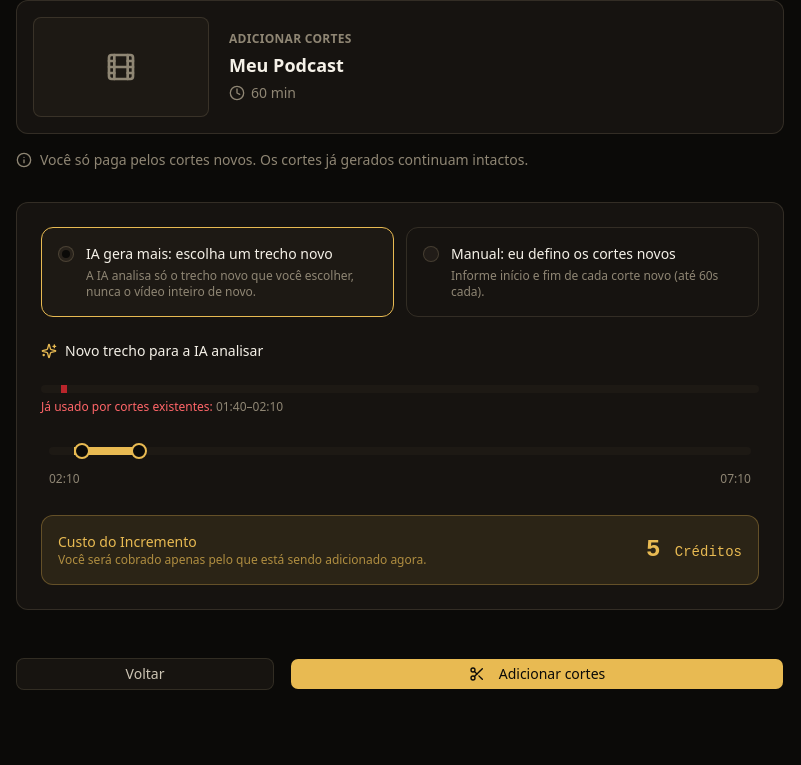
Test: AddClipsToProjectClient - Accessibility (WCAG 2.1 AA) › o bloqueio de sobreposição com clipe existente é um role=alert ligado ao campo (WCAG 4.1.3 / 3.3.1)
Click the radio button named "Manual: eu defino" next to "Manual: eu defino os cortes novos": (431, 254) [423, 246, 439, 262]
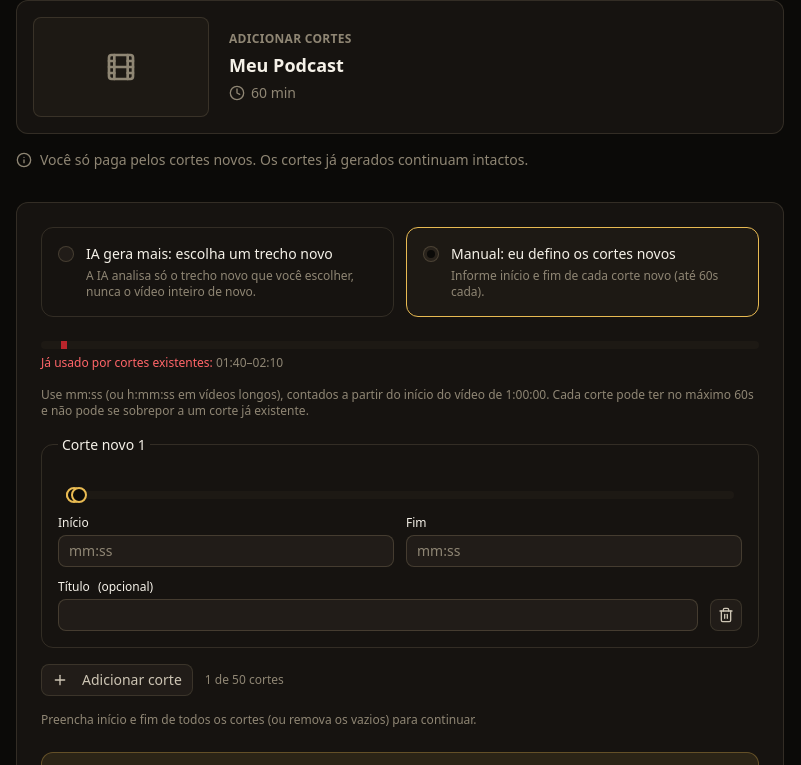
In the field named "Início do corte novo 1": (226, 551) [58, 535, 394, 567], type "01:50"
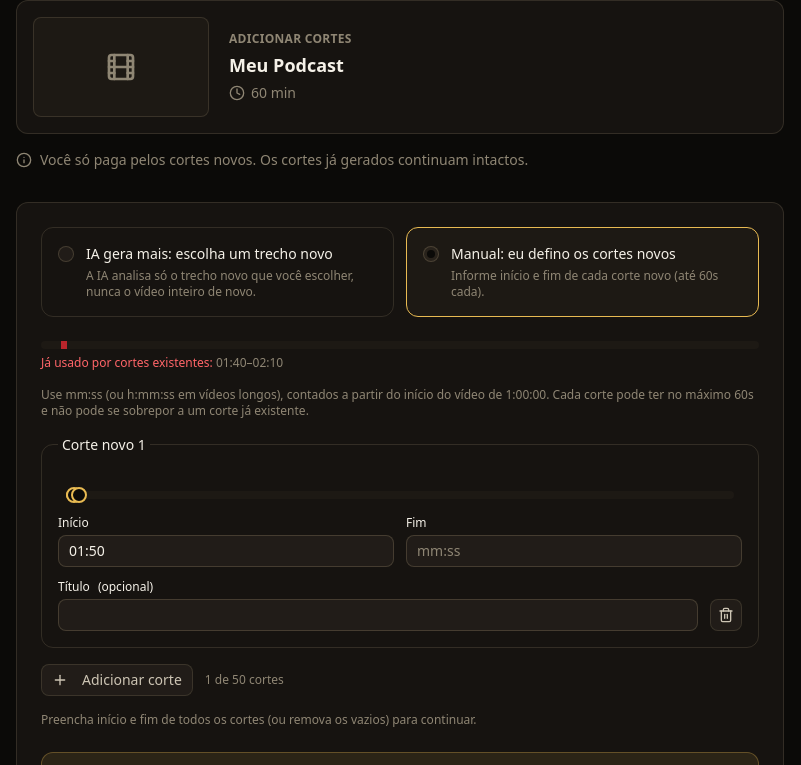
In the field named "Fim do corte novo 1": (574, 551) [406, 535, 742, 567], type "02:20"
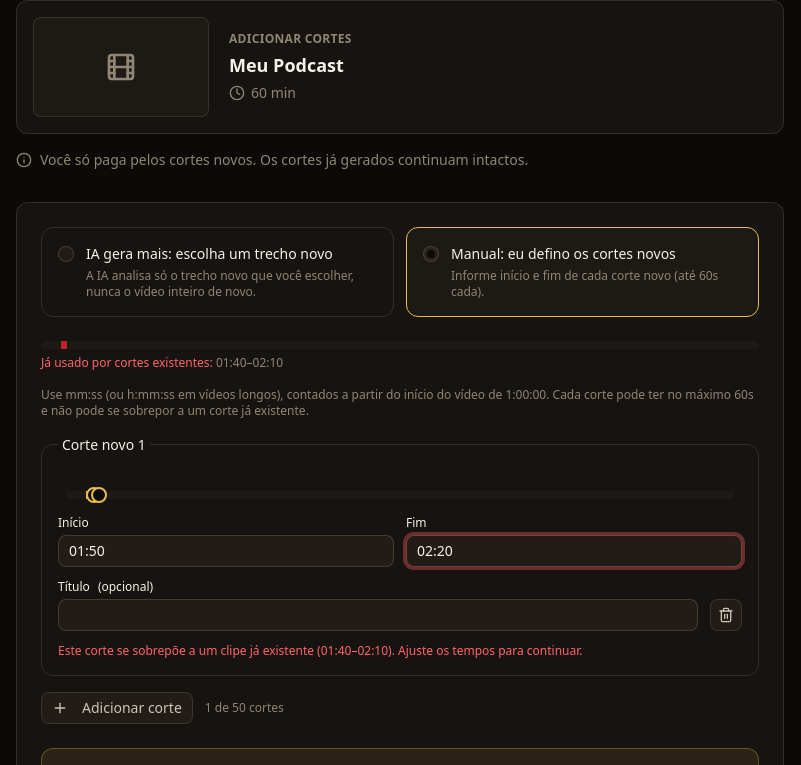
Check: the message is shown, box [58, 642, 582, 659]
